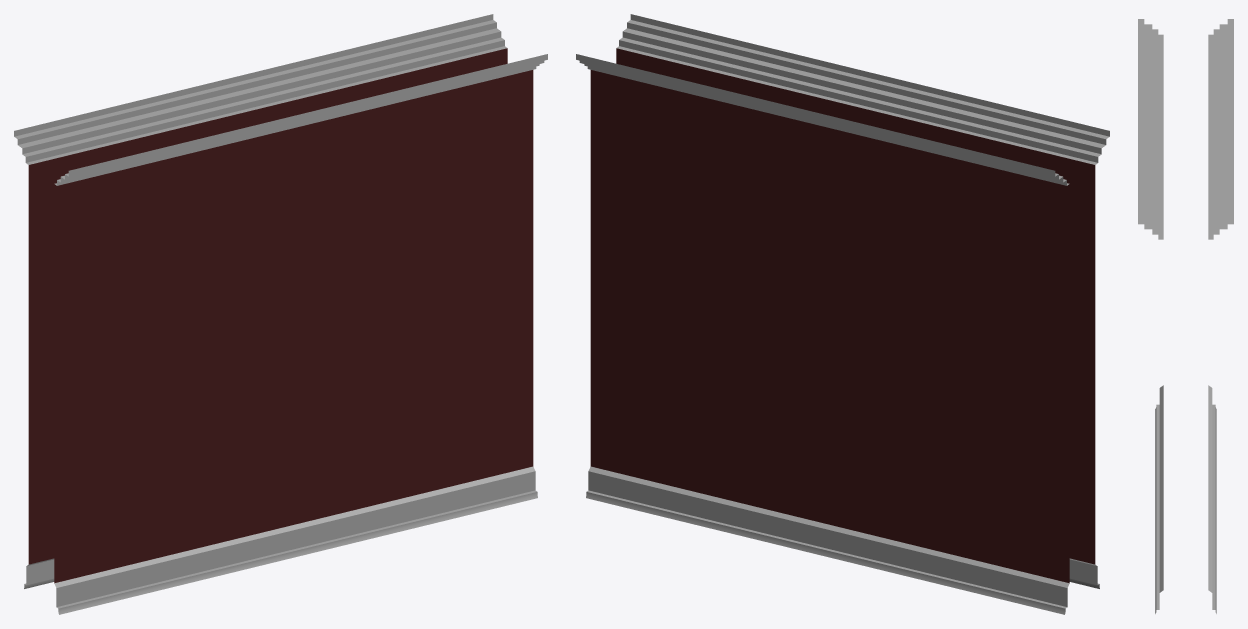
File: ContemporaryTwoSideWall.fbx
The picture shows the model from 3 angles, left to right: view 1: azimuth 30°, elevation 25°; view 2: azimuth 150°, elevation 25°; view 3: azimuth 270°, elevation 25°; orthographic projection. The views are drawn at different scales.
Parts seen in each view (by area): view 1: WallOneSide9; view 2: WallOneSide9; view 3: WallOneSide9.
Part boxes in pixels (left/top/right/bottom): WallOneSide9: left=14, top=14, right=547, bottom=614; WallOneSide9: left=576, top=14, right=1109, bottom=614; WallOneSide9: left=1138, top=19, right=1233, bottom=613.
Size of the model in its own units: 4 by 3.6 by 0.7887.
